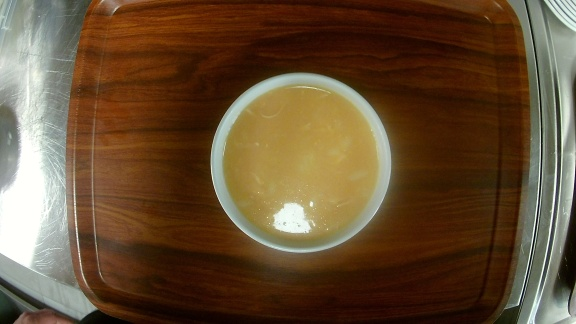tavukcorba: (206, 71, 395, 256)
